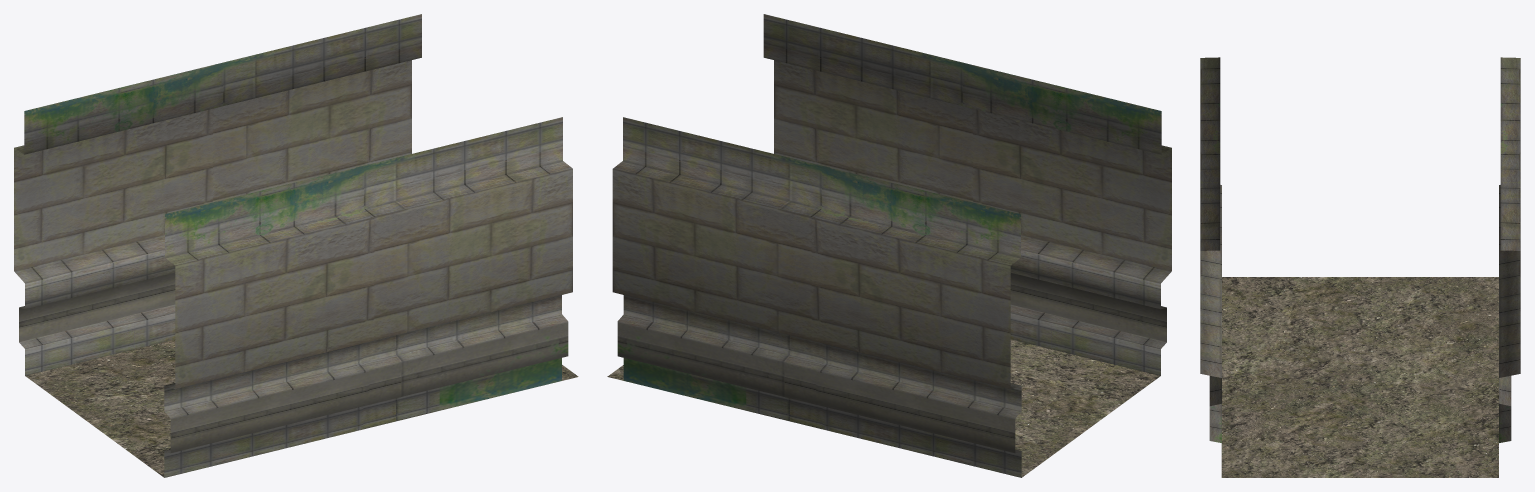
The model's file is Dungeon.fbx.
The picture shows the model from 3 angles, left to right: view 1: azimuth 30°, elevation 25°; view 2: azimuth 150°, elevation 25°; view 3: azimuth 270°, elevation 25°; orthographic projection.
Visible parts, largest first — view 1: Wall_Right, Wall_Left, Ground; view 2: Wall_Left, Wall_Right, Ground; view 3: Ground, Wall_Left, Wall_Right.
Boxes of the visible parts, box(x1,y1,x2,y2) form: Wall_Right: box(164, 117, 572, 477); Wall_Left: box(14, 14, 421, 375); Ground: box(25, 339, 578, 477); Wall_Left: box(612, 117, 1021, 477); Wall_Right: box(763, 14, 1171, 375); Ground: box(607, 339, 1160, 477); Ground: box(1221, 277, 1498, 477); Wall_Left: box(1499, 57, 1520, 442); Wall_Right: box(1200, 57, 1221, 442).
Bounding box in the file's own units: 36.29 × 22.12 × 24.45.
